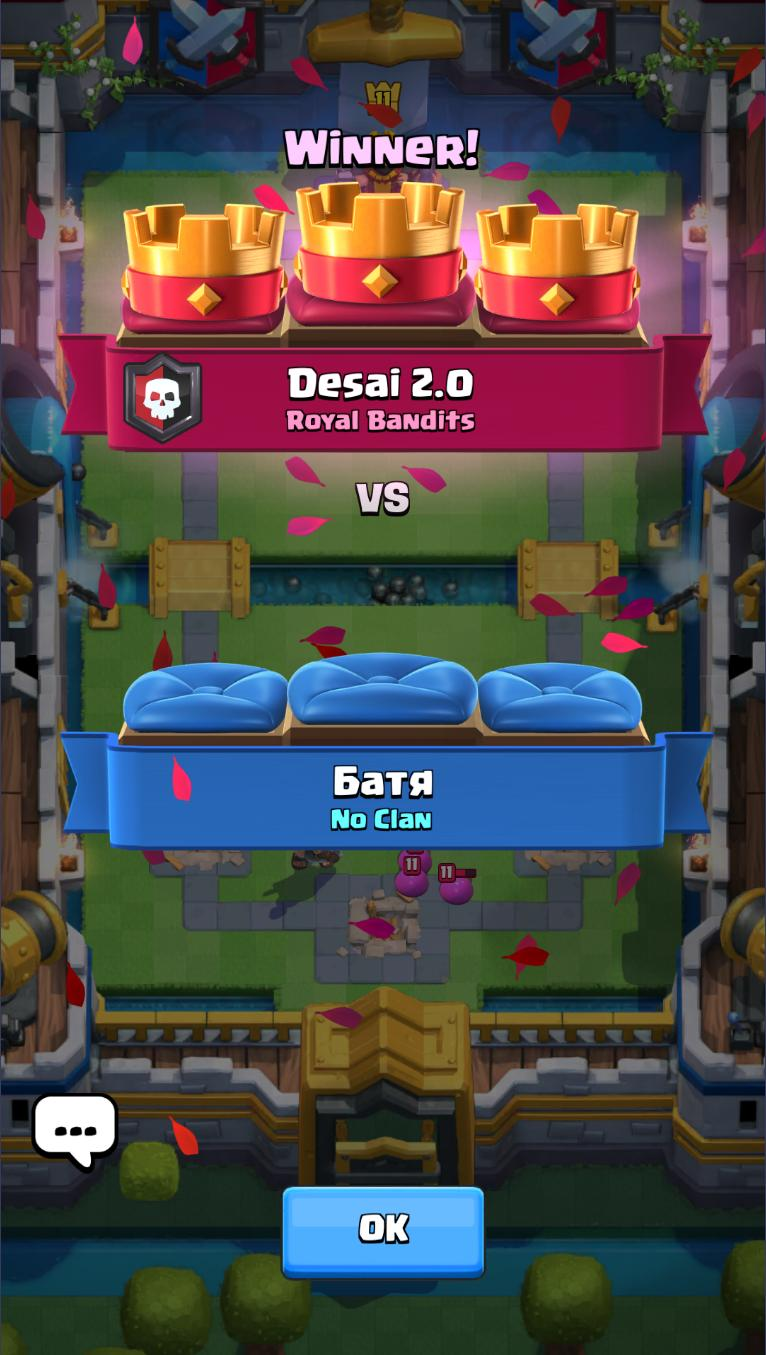ElixirGolemMicro: (437, 862, 478, 906), (392, 857, 429, 897), (399, 849, 432, 873)
Lose_3-0: (56, 181, 713, 848)
